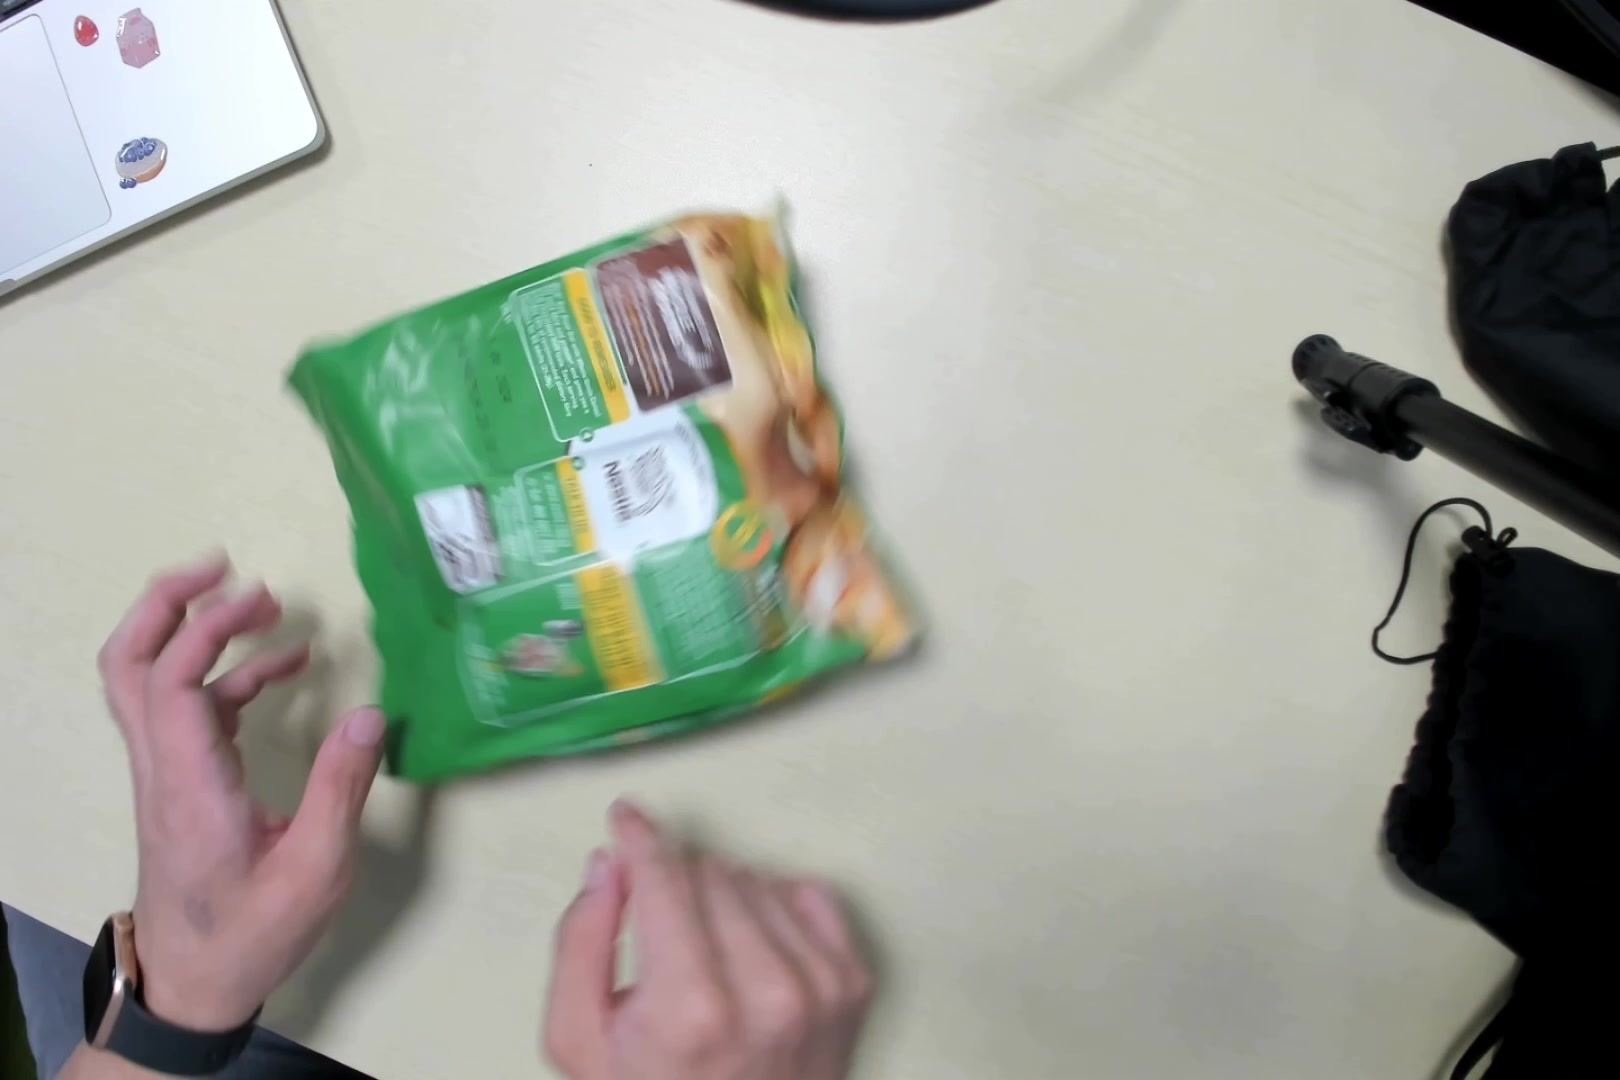ChocolateMaltPowder_300-399g_NonHalal_NonHealthy: (319, 205, 900, 796)
